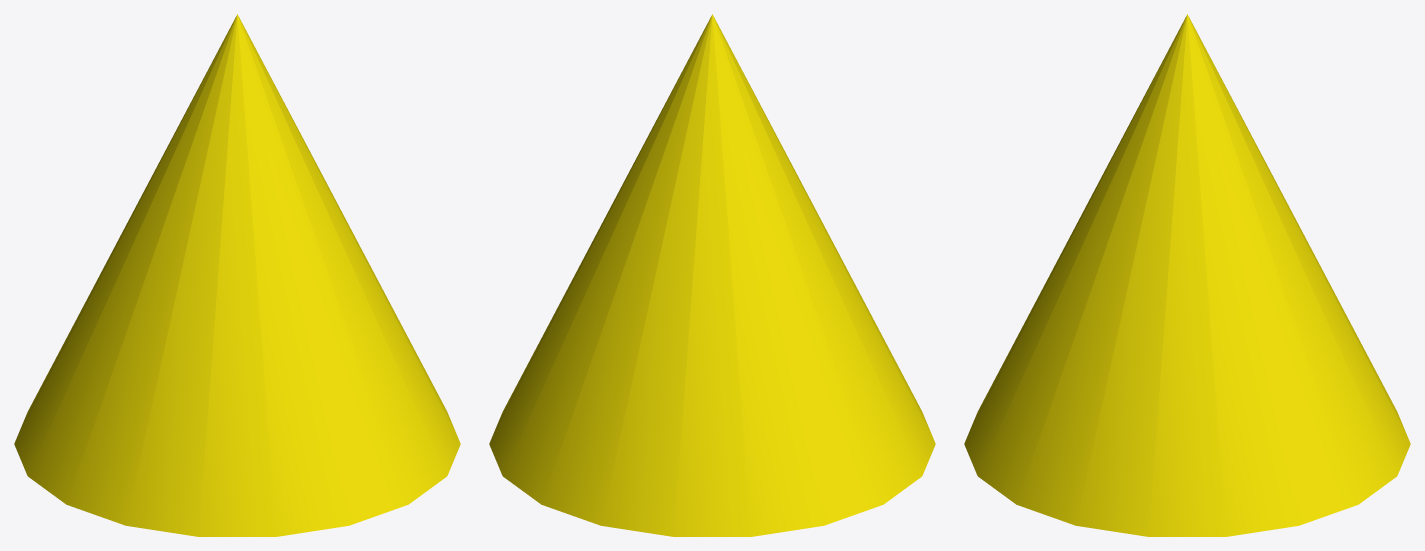
Rendered from prop-star-01.glb.
The picture shows the model from 3 angles, left to right: view 1: azimuth 30°, elevation 25°; view 2: azimuth 150°, elevation 25°; view 3: azimuth 270°, elevation 25°; orthographic projection.
Size of the model in its own units: 1.58 by 1.7 by 1.6.
